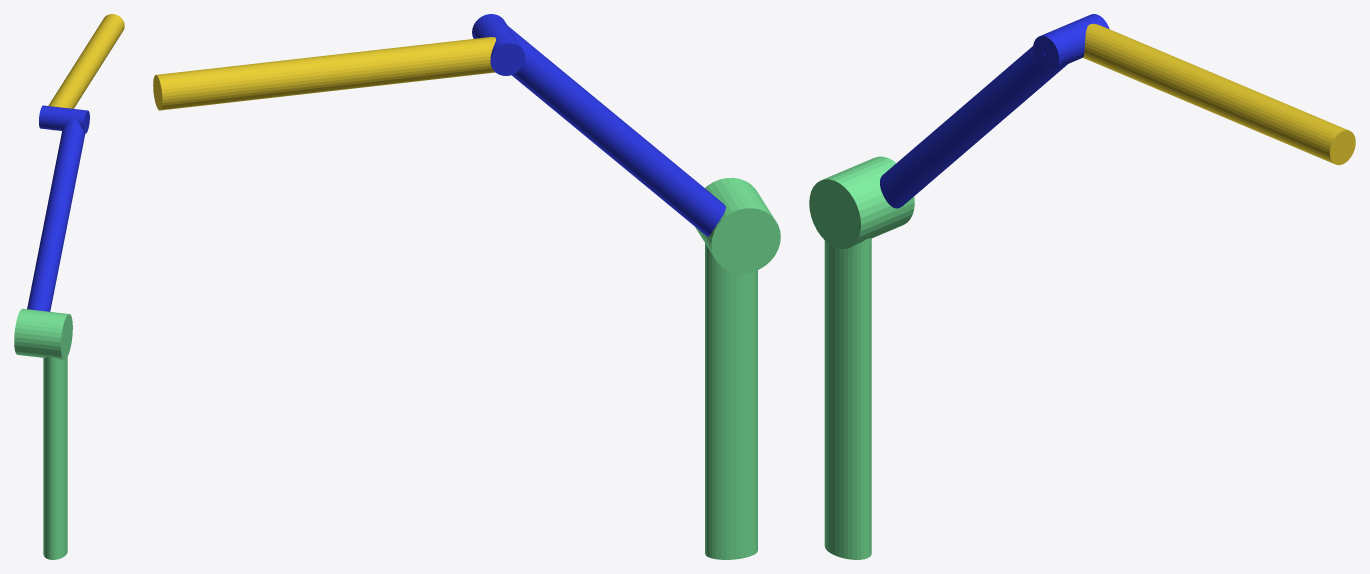
File: bazo_3D.glb
3 renders of one model, left to right at view 1: azimuth 30°, elevation 25°; view 2: azimuth 150°, elevation 25°; view 3: azimuth 270°, elevation 25°, orthographic. The views are drawn at different scales.
Parts seen in each view (by area): view 1: cil1, cil2, cil3; view 2: cil1, cil3, cil2; view 3: cil1, cil3, cil2.
Part boxes in pixels (x1,y1,x2,y2): cil1: (14, 308, 72, 559); cil2: (27, 105, 89, 311); cil3: (48, 14, 124, 130); cil1: (695, 177, 780, 559); cil3: (153, 37, 496, 110); cil2: (472, 14, 725, 236); cil1: (809, 156, 914, 559); cil3: (1083, 23, 1355, 165); cil2: (880, 14, 1109, 208).
Size of the model in its own units: 2.57 by 3.52 by 2.98.
